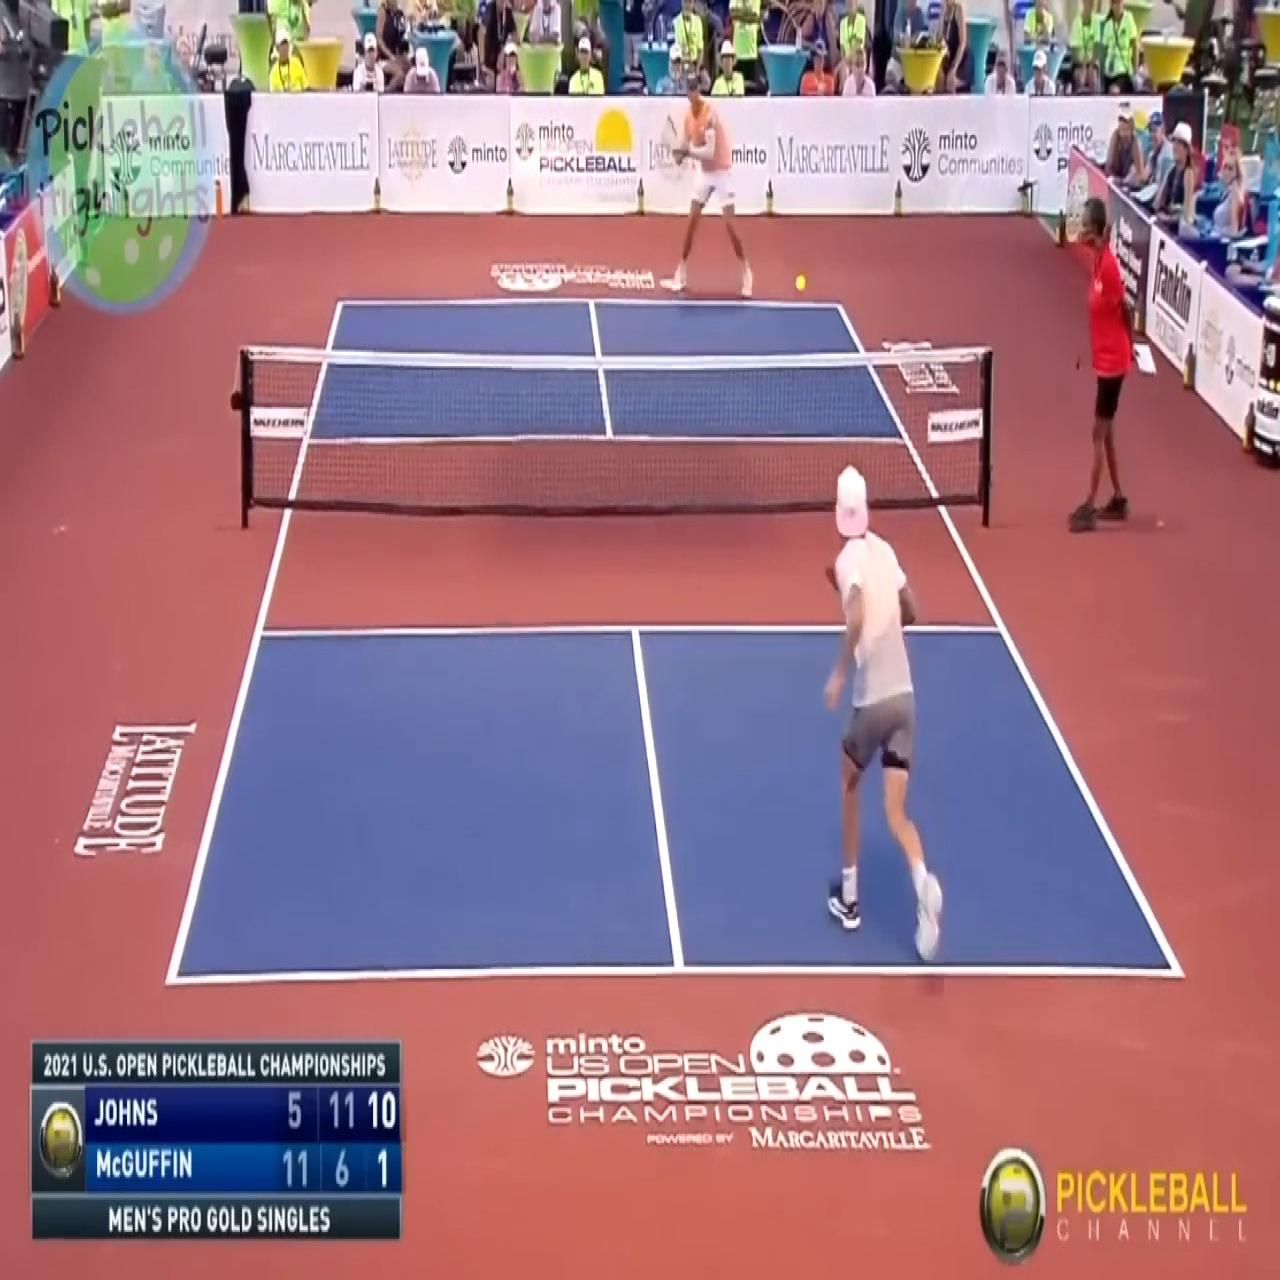pickleball: (795, 272, 806, 292)
